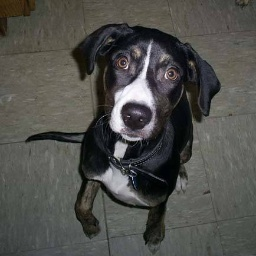dog: (57, 20, 223, 247)
